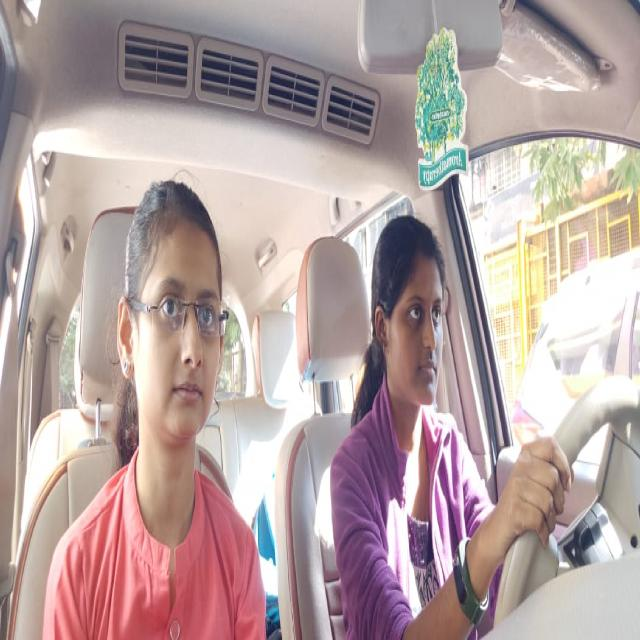person: (114, 168, 230, 474), (365, 204, 461, 436)
